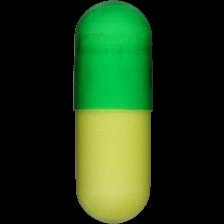68084-934: (0, 0, 224, 224)
